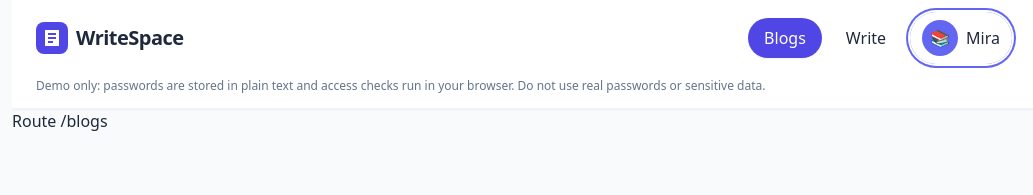
Scenario: reveals logout by keyboard, toggles closed, and restores focus on Escape
Press Enter
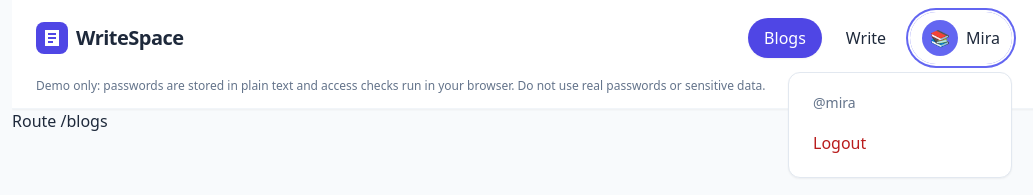
Click the button named "Mira account" at coordinates (961, 38), box [910, 12, 1012, 64]
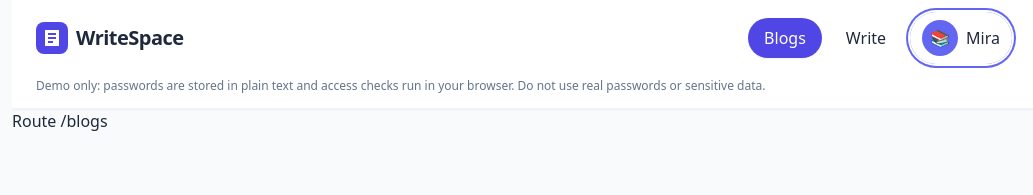
Result: the button "Logout" is gone
Click the button named "Mira account" at coordinates (961, 38), box [910, 12, 1012, 64]
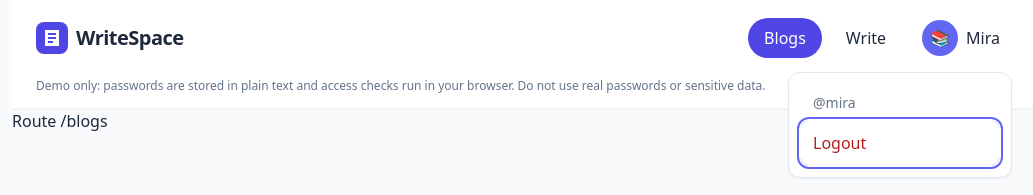
Press Escape
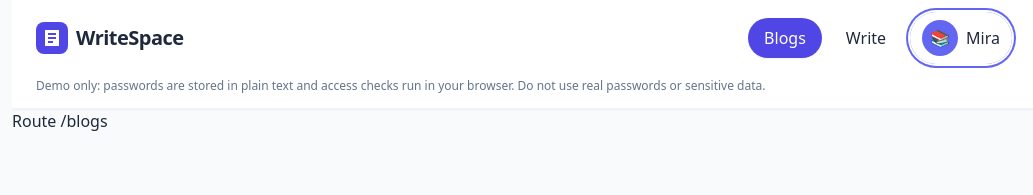
Result: the button named "Mira account" is collapsed at [910, 12, 1012, 64]
